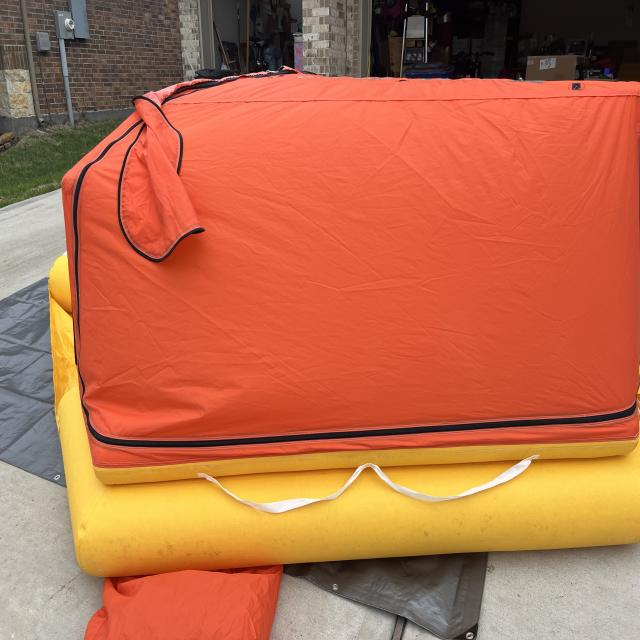Multi-person_life_raft: (47, 63, 640, 639)
